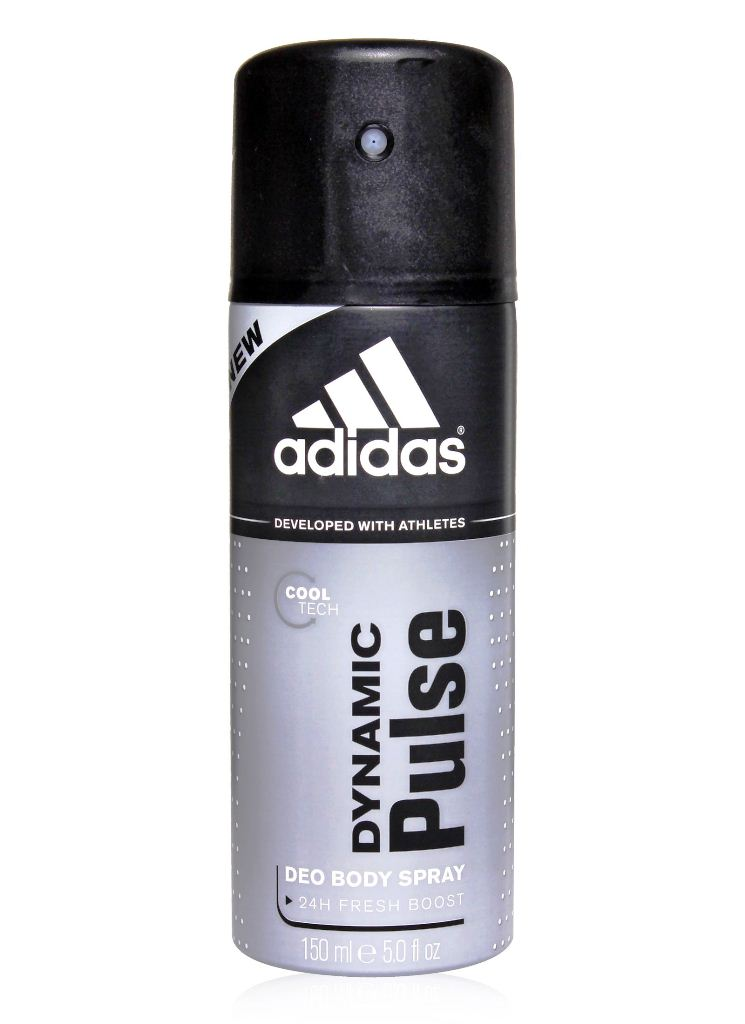Adidas: (265, 333, 470, 483)
